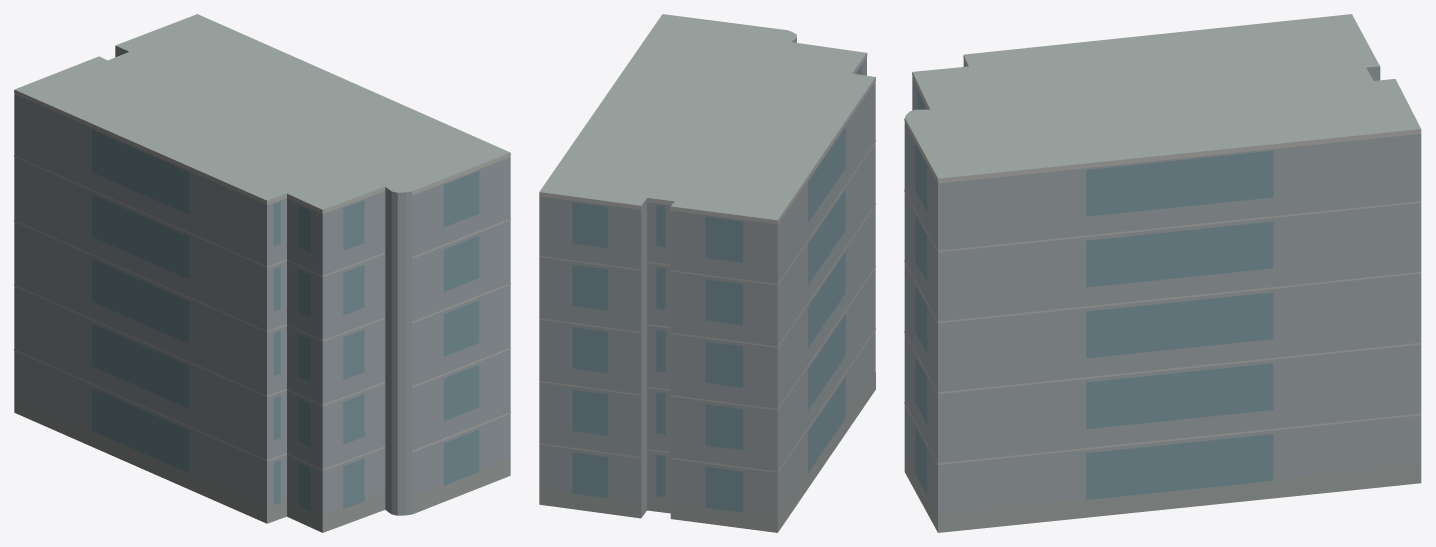
File: survey-upis-33028471.glb
3 views of the same model, side by side, from view 1: azimuth 30°, elevation 25°; view 2: azimuth 150°, elevation 25°; view 3: azimuth 270°, elevation 25° (orthographic). The views are drawn at different scales.
Parts seen in each view (by area): view 1: survey-upis-33028471.tmp; view 2: survey-upis-33028471.tmp; view 3: survey-upis-33028471.tmp.
Boxes of the visible parts, bbox=[...] form: survey-upis-33028471.tmp: bbox=[14, 14, 510, 532]; survey-upis-33028471.tmp: bbox=[539, 14, 875, 532]; survey-upis-33028471.tmp: bbox=[904, 14, 1421, 532].
Size of the model in its own units: 17.97 by 18 by 23.82.
